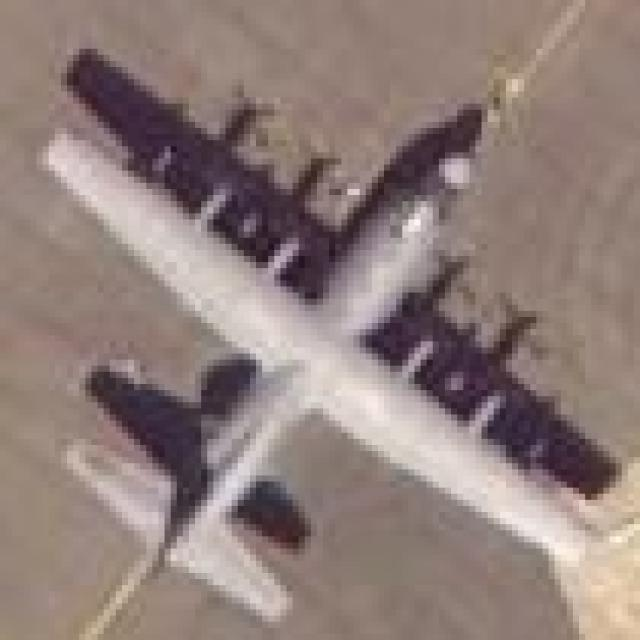C-130_TopDown: (41, 38, 620, 626)
